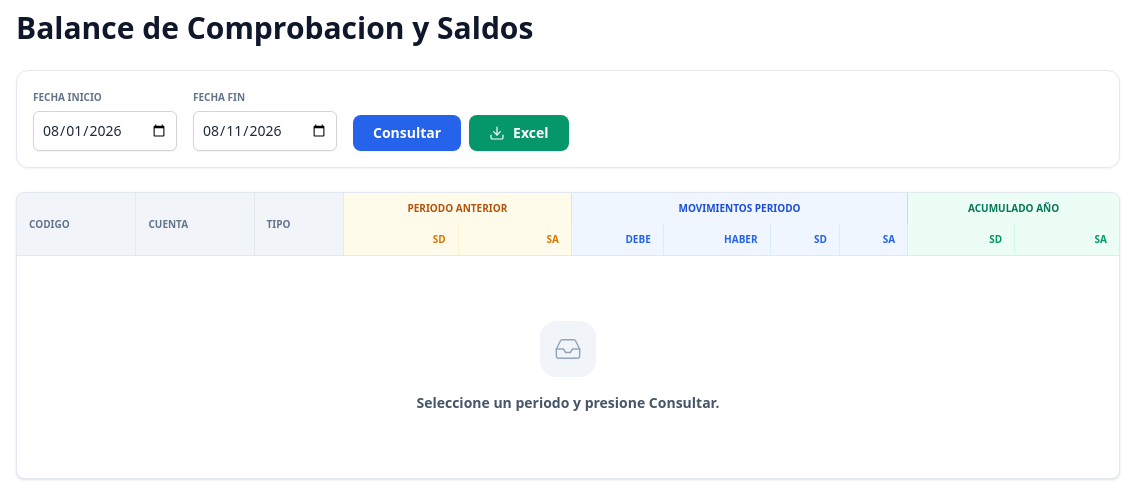
Scenario: BalanceComprobacion (vista) › carga y muestra cuentas en la tabla al consultar exitosamente
The image size is (1137, 497).
Click the button "Consultar" at (407, 133), box top-left (353, 115), bottom-right (461, 151)
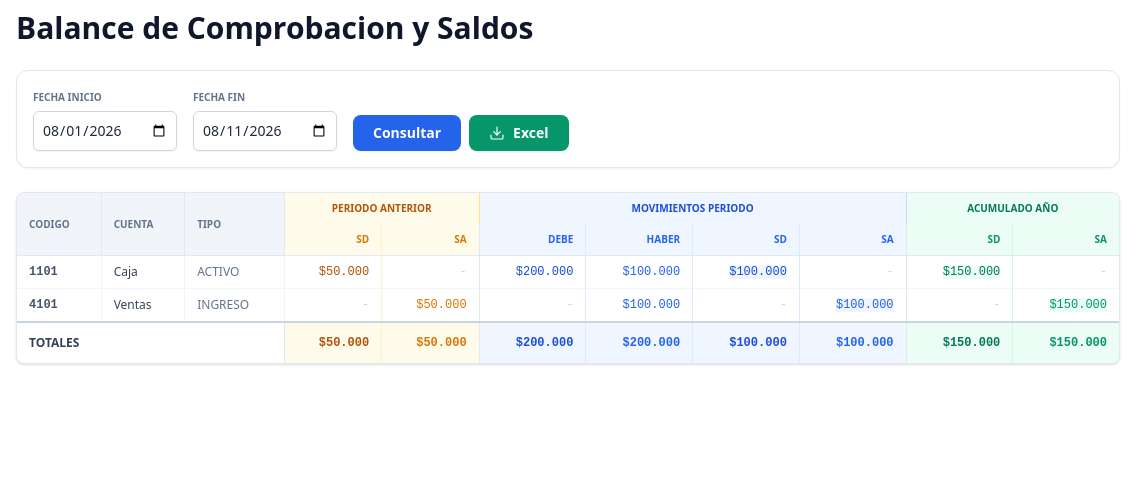
Result: the text "Caja" is shown at top-left (101, 256), bottom-right (185, 288)
Result: the text "Ventas" is shown at top-left (101, 288), bottom-right (185, 322)
